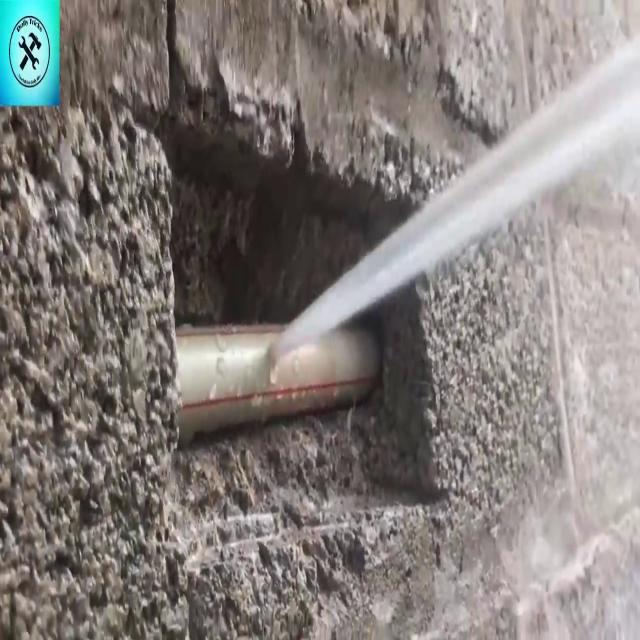leak: (266, 33, 640, 364)
